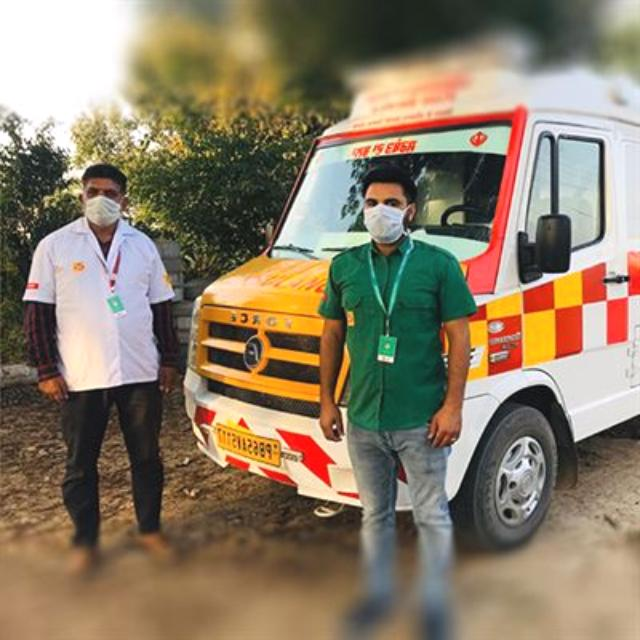ambulance: (177, 52, 640, 560)
